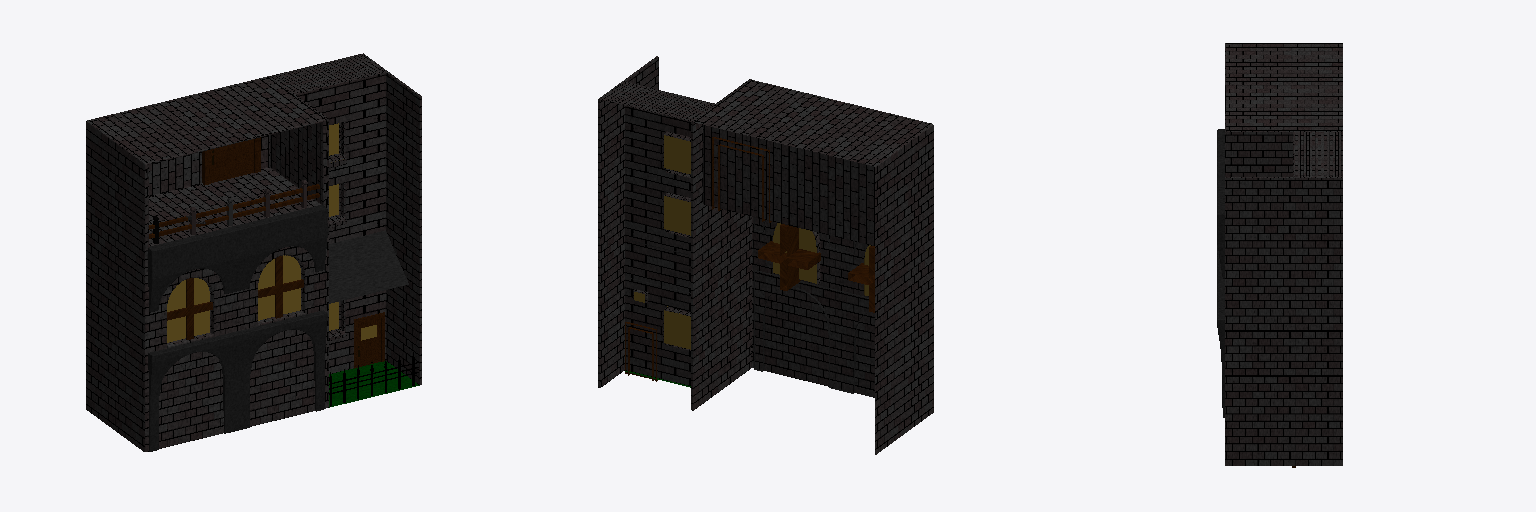
The picture shows the model from 3 angles: view 1: azimuth 30°, elevation 25°; view 2: azimuth 150°, elevation 25°; view 3: azimuth 270°, elevation 25°; orthographic projection.
Visible parts, largest first — view 1: sub1.002, sub3.001, door_bake.006, door_bake.007; view 2: sub1.002, sub3.001, door_bake.006; view 3: sub3.001, sub1.002.
Boxes of the visible parts, box(x1,y1,x2,y2) form: sub1.002: box(86, 76, 327, 451); sub3.001: box(268, 53, 421, 407); door_bake.006: box(202, 137, 260, 185); door_bake.007: box(354, 312, 384, 368); sub1.002: box(694, 80, 933, 454); sub3.001: box(598, 56, 752, 410); door_bake.006: box(712, 137, 771, 222); sub3.001: box(1225, 131, 1342, 465); sub1.002: box(1217, 43, 1342, 417).
Size of the model in its own units: 16.16 by 16.27 by 6.34.
4 materials, 3 textured.